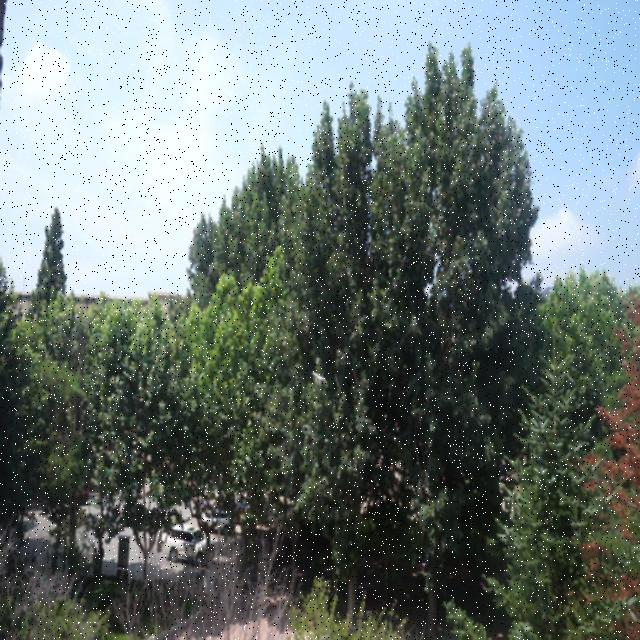UAV: (312, 372, 324, 384)
